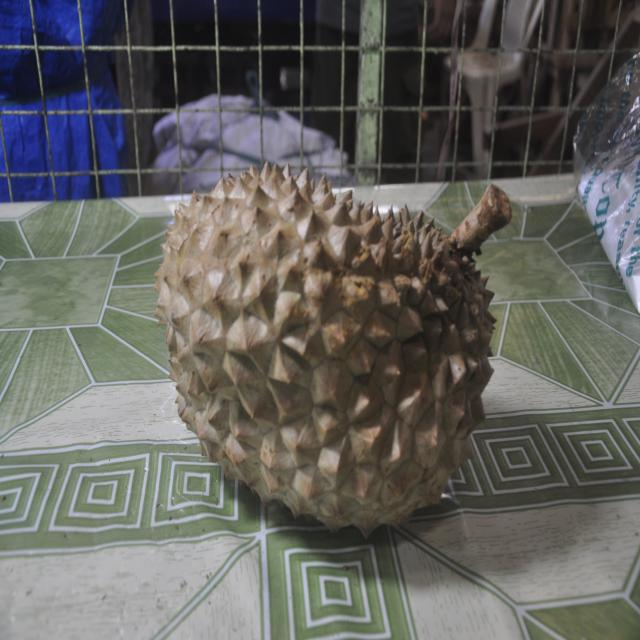mature: (156, 162, 511, 536)
